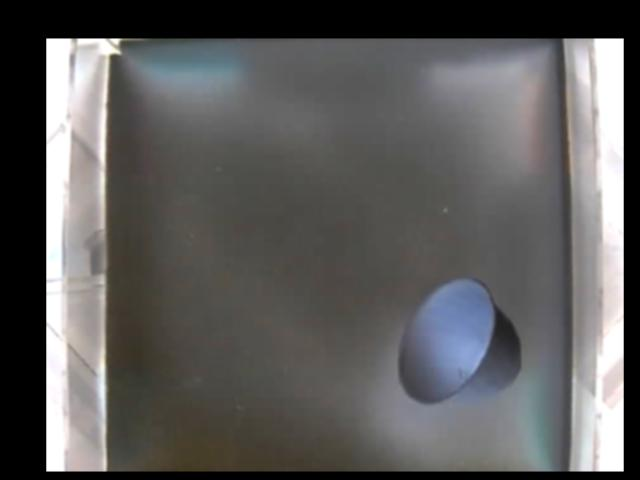Cup: (394, 280, 521, 404)
